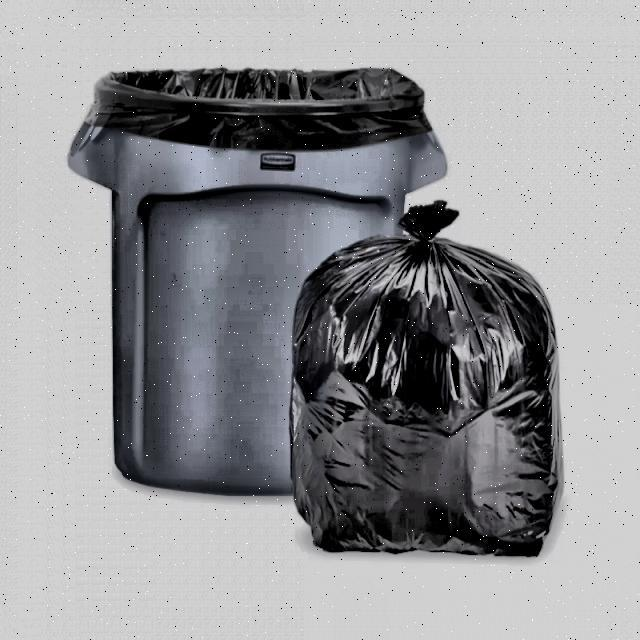Trashbag: (279, 209, 560, 563)
